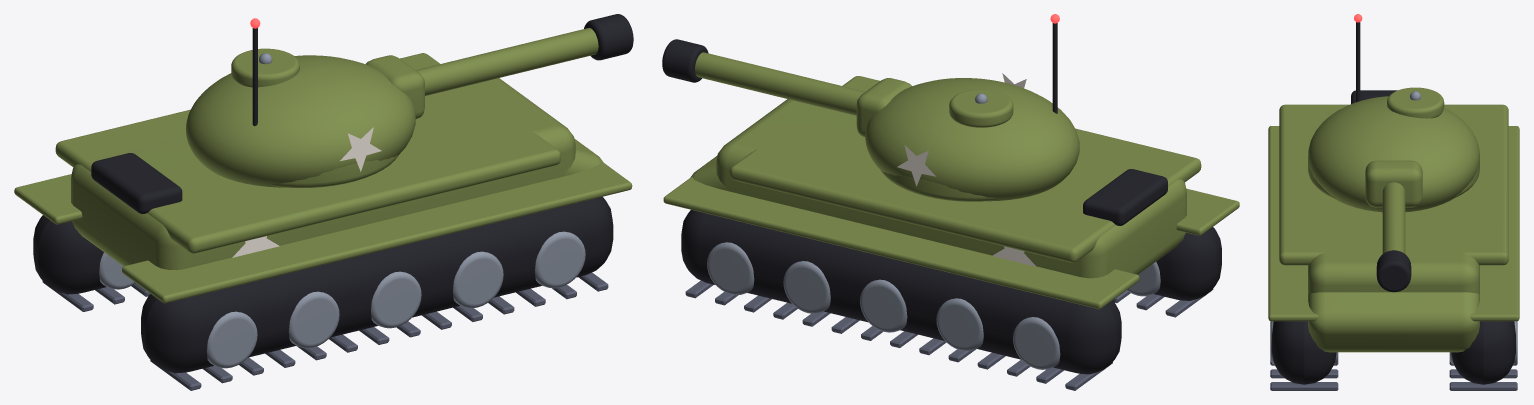
The model's file is tank.glb.
3 renders of one model, left to right at view 1: azimuth 30°, elevation 25°; view 2: azimuth 150°, elevation 25°; view 3: azimuth 270°, elevation 25°, orthographic. The views are drawn at different scales.
Parts seen in each view (by area): view 1: tank.019, turret.007, barrel.013; view 2: tank.019, turret.007, barrel.013; view 3: tank.019, turret.007, barrel.013.
Part boxes in pixels (x1,y1,x2,y2): tank.019: (14, 53, 632, 390); turret.007: (186, 18, 424, 187); barrel.013: (416, 14, 633, 95); tank.019: (663, 76, 1239, 390); turret.007: (856, 14, 1079, 201); barrel.013: (662, 39, 865, 115); tank.019: (1268, 90, 1519, 390); turret.007: (1308, 14, 1479, 212); barrel.013: (1376, 182, 1411, 292).
Size of the model in its own units: 7.2 by 3.92 by 3.5.
Materials: 1 (1 with a texture image).
